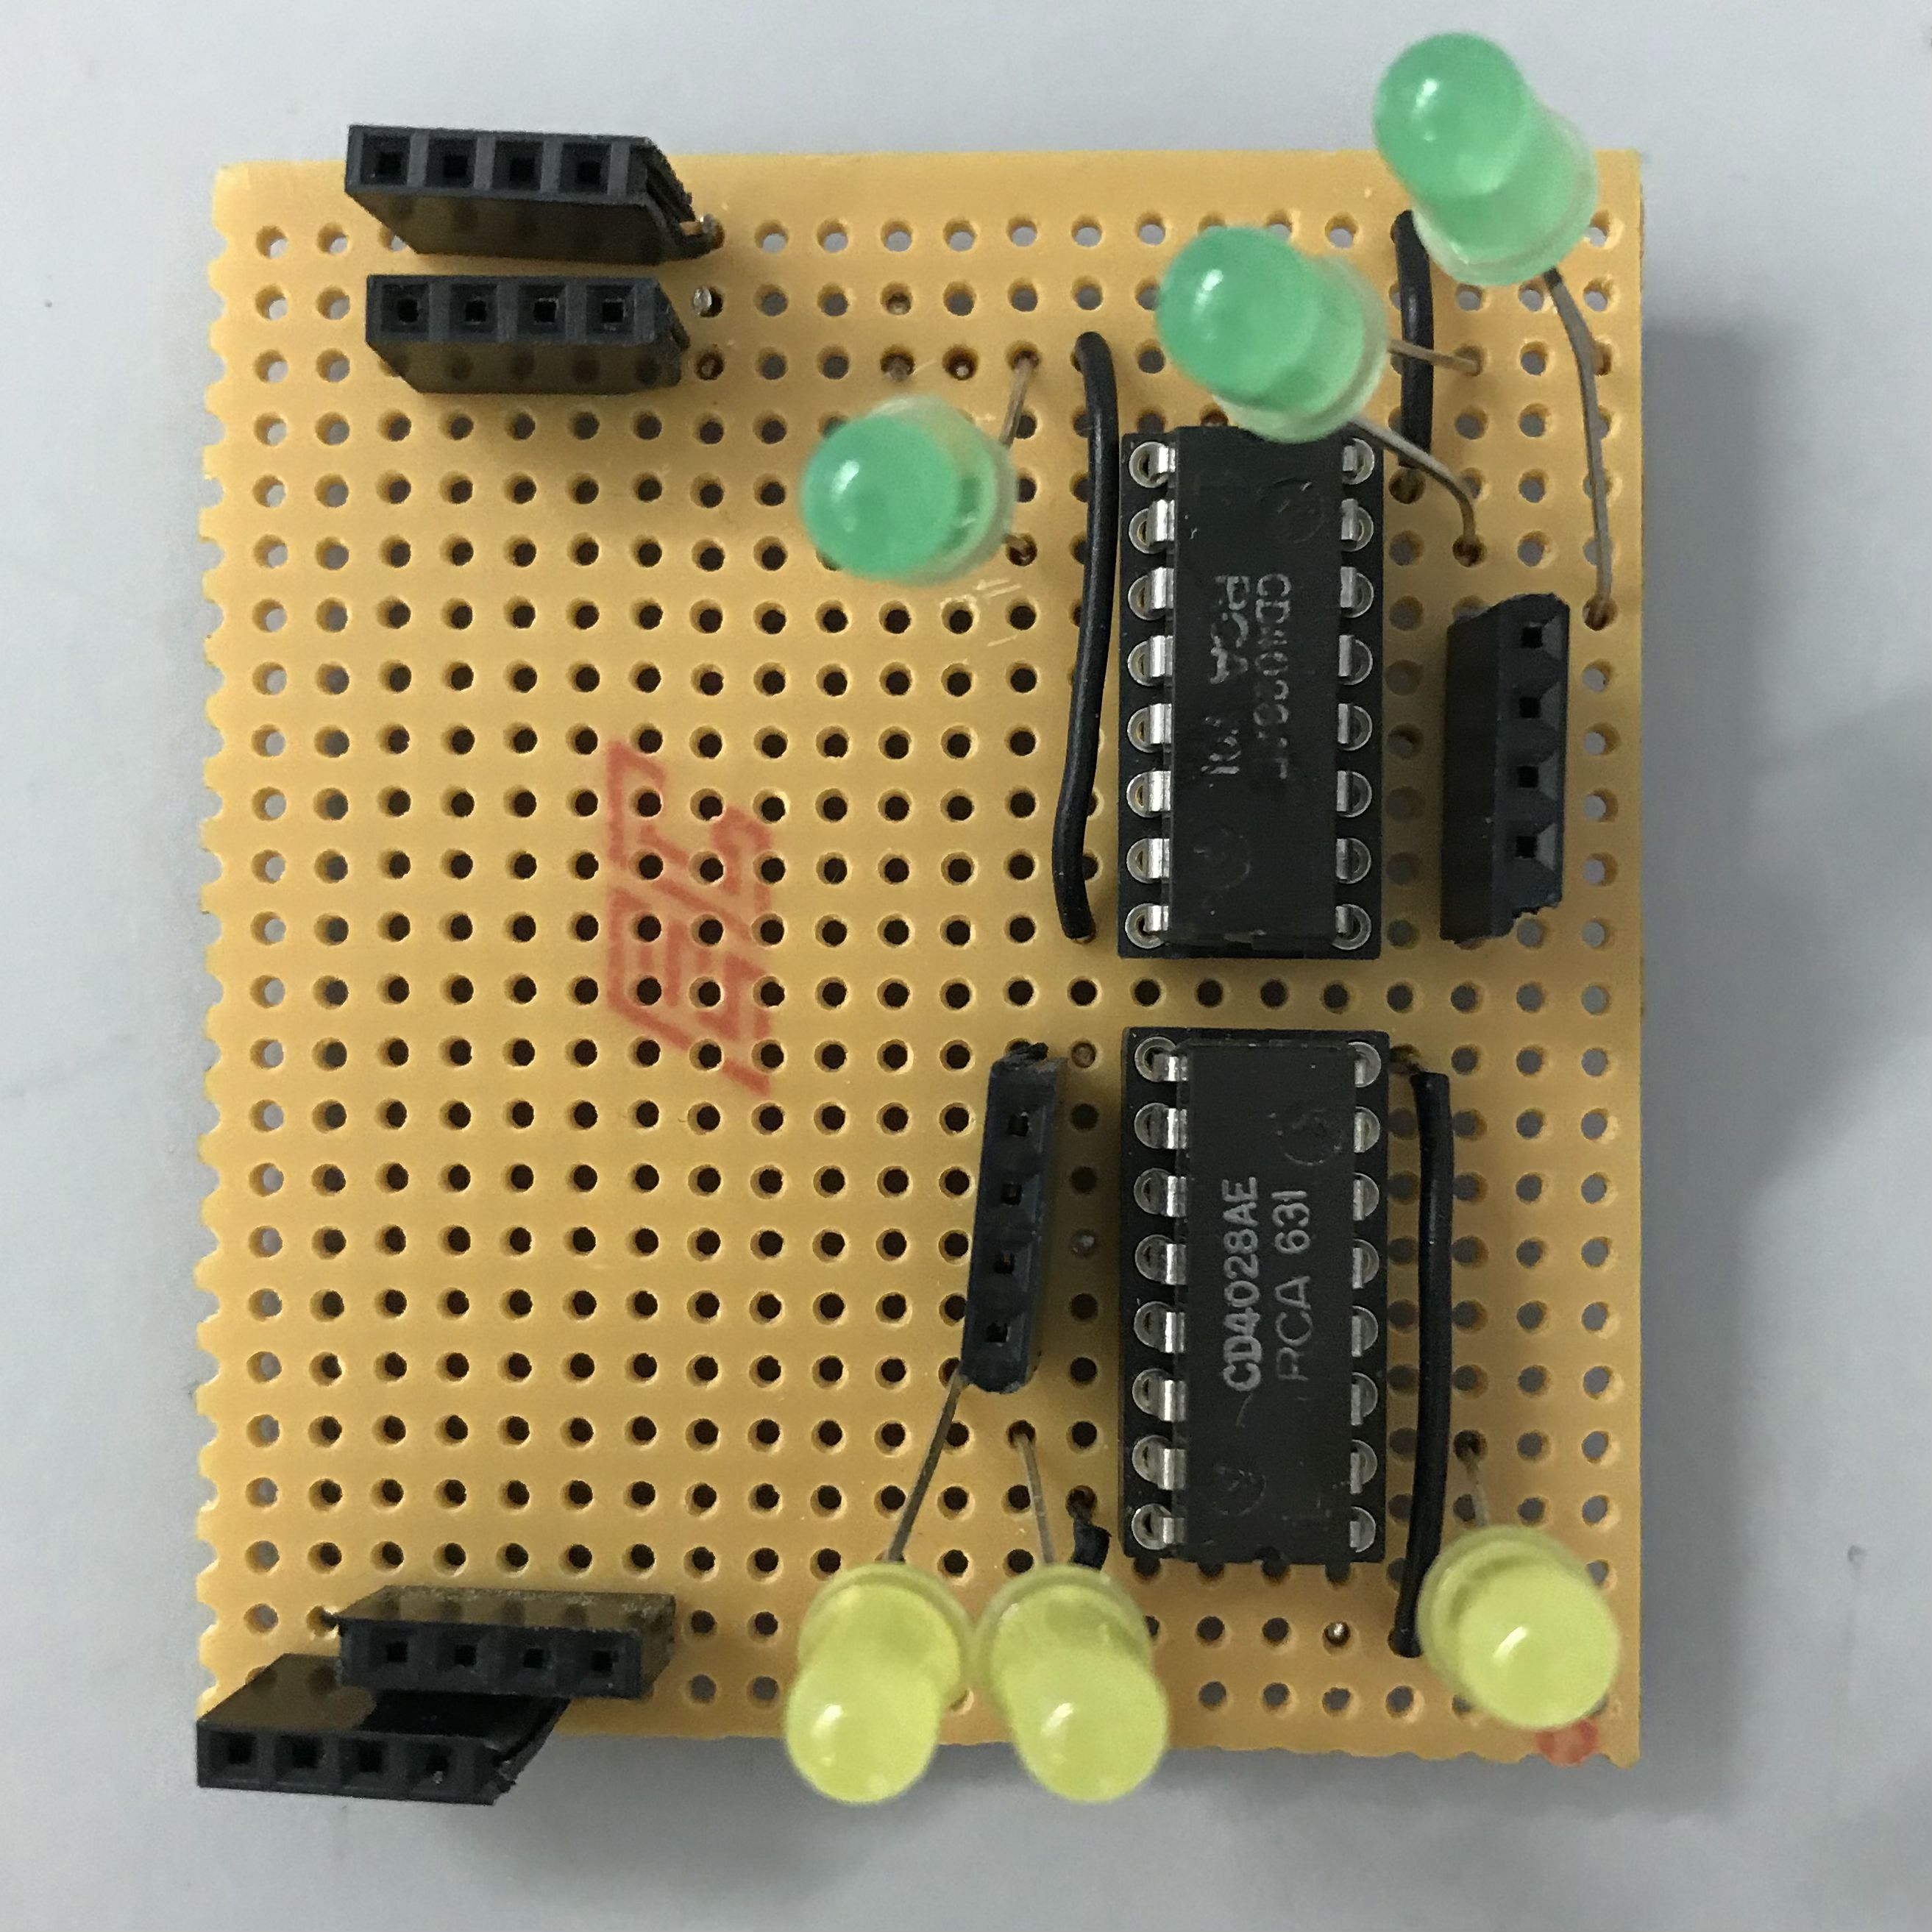LED: (1362, 23, 1605, 294), (1148, 221, 1396, 446), (771, 1560, 977, 1819), (970, 1560, 1178, 1810), (1408, 1522, 1626, 1736), (796, 389, 1021, 586)
